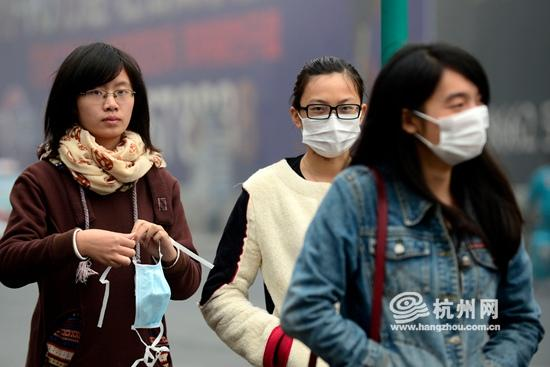mask: (417, 68, 496, 168), (298, 66, 361, 164)
no_mask: (78, 61, 141, 142)
